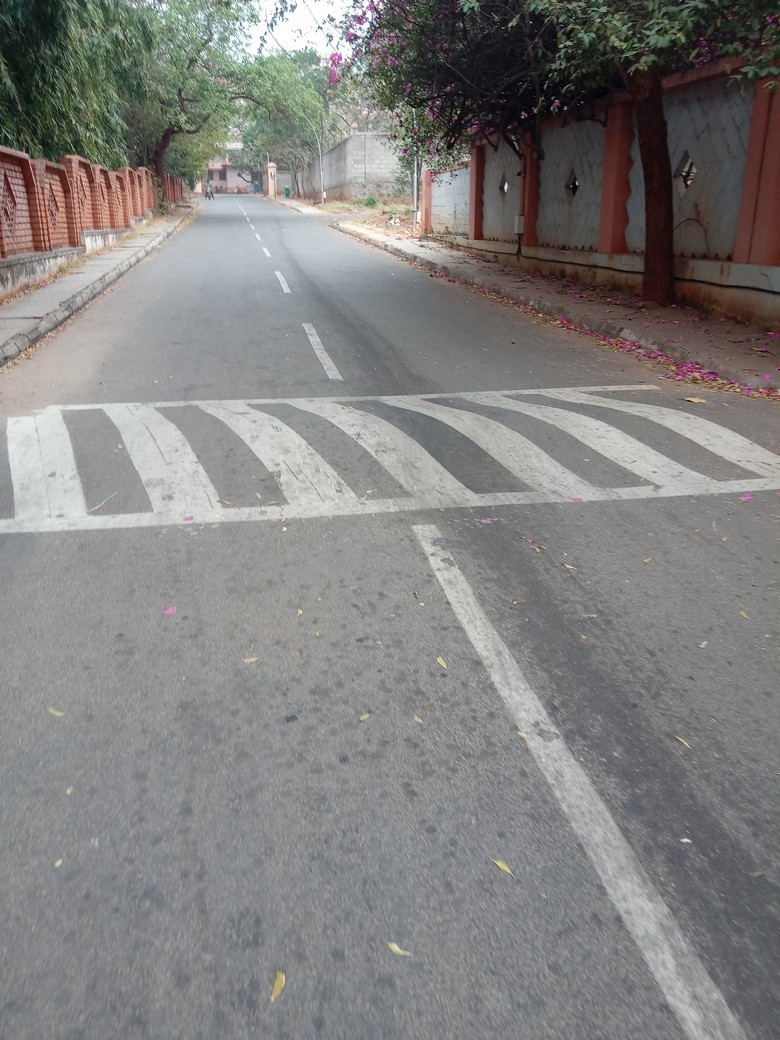bump: (1, 386, 780, 531)
